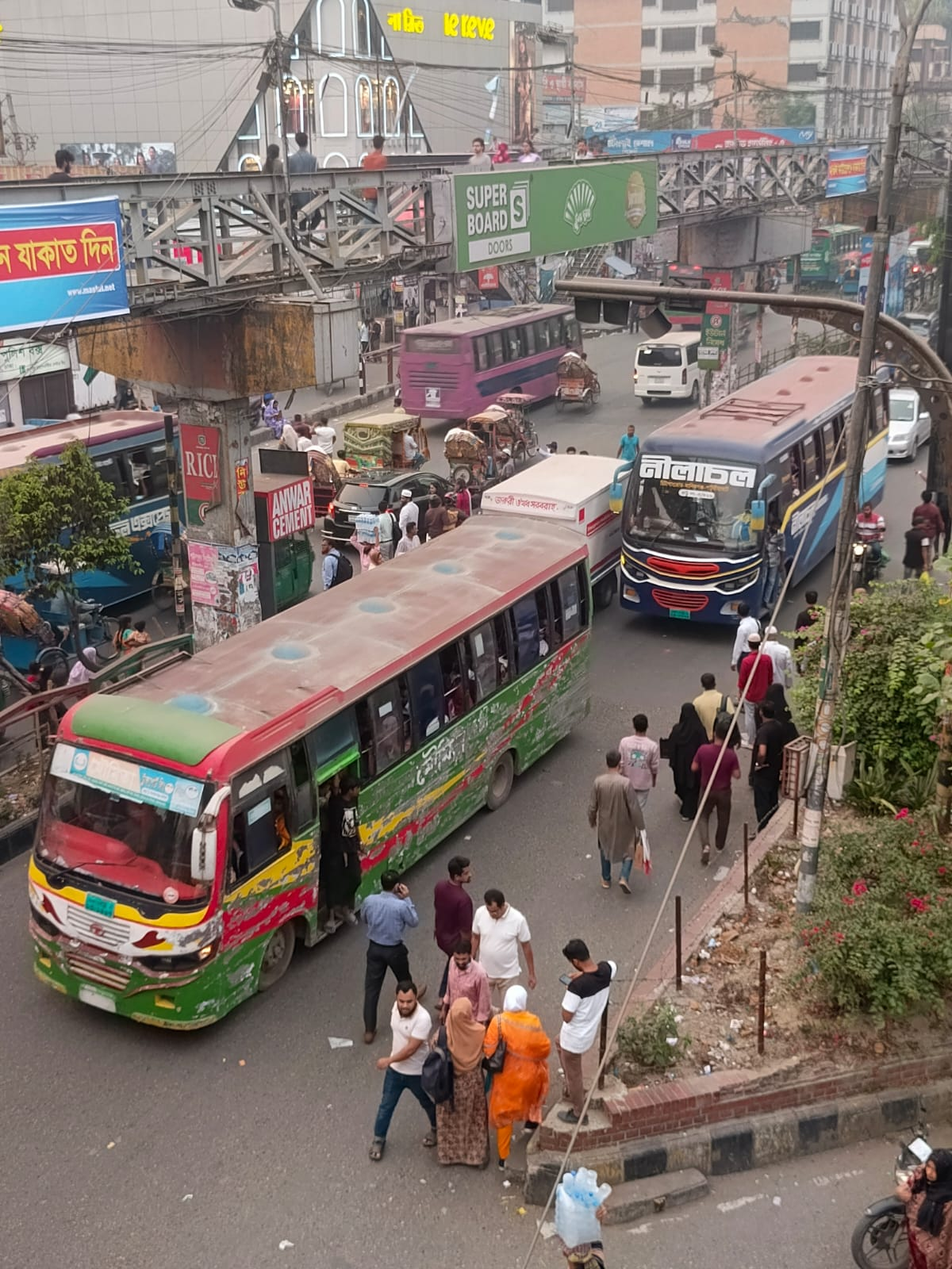Bus: (29, 515, 593, 1029), (620, 355, 855, 627), (859, 369, 889, 504)
